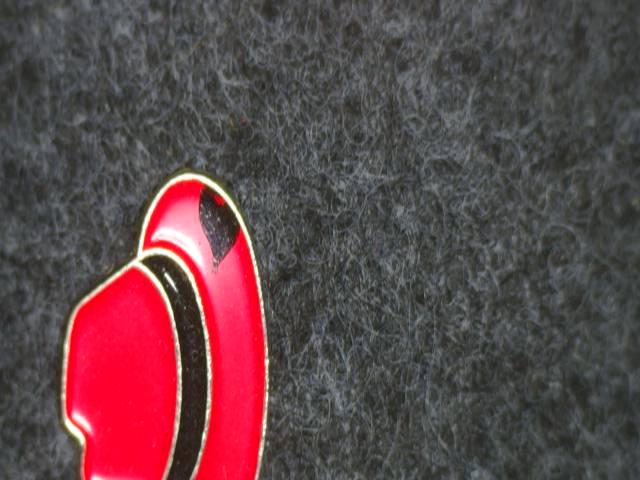Red-Hat: (39, 145, 307, 480)
Scratch: (186, 163, 264, 288)
